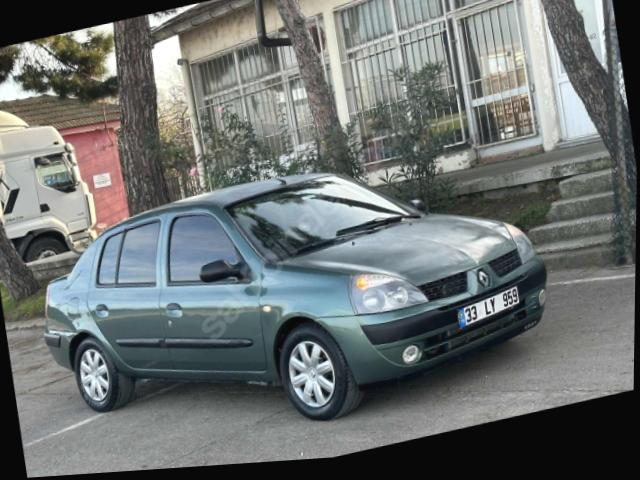plaka: (458, 287, 518, 326)
